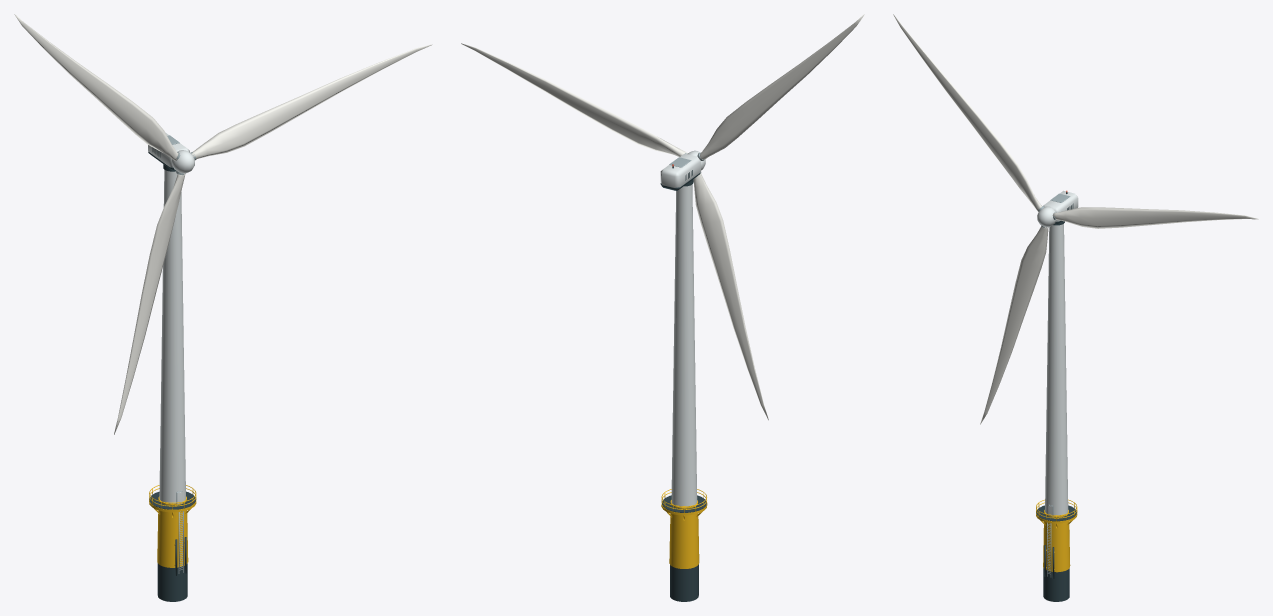
File: offshore_wind_generator.glb
3 renders of one model, left to right at view 1: azimuth 30°, elevation 25°; view 2: azimuth 150°, elevation 25°; view 3: azimuth 330°, elevation 25°, orthographic. The views are drawn at different scales.
Visible parts, largest first — view 1: Rotor, Offshore turbine; view 2: Offshore turbine, Rotor; view 3: Offshore turbine, Rotor.
Boxes of the visible parts, x1,y1,x2,y2 form: Rotor: (14, 14, 432, 434); Offshore turbine: (148, 132, 196, 601); Offshore turbine: (660, 153, 707, 601); Rotor: (461, 14, 864, 420); Offshore turbine: (1036, 190, 1078, 601); Rotor: (893, 14, 1258, 424).
Bounding box in the file's own units: 83.05 × 120 × 11.58.
